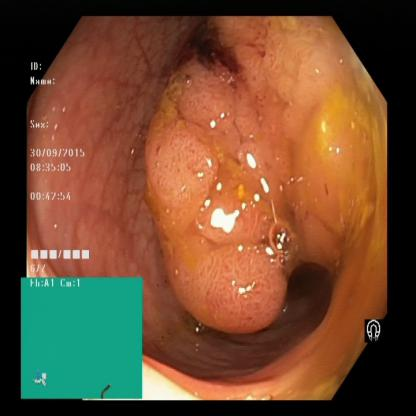Labels: (25, 57, 111, 280), (22, 277, 146, 400), (364, 310, 388, 349)
Polyps: (155, 56, 299, 322)
